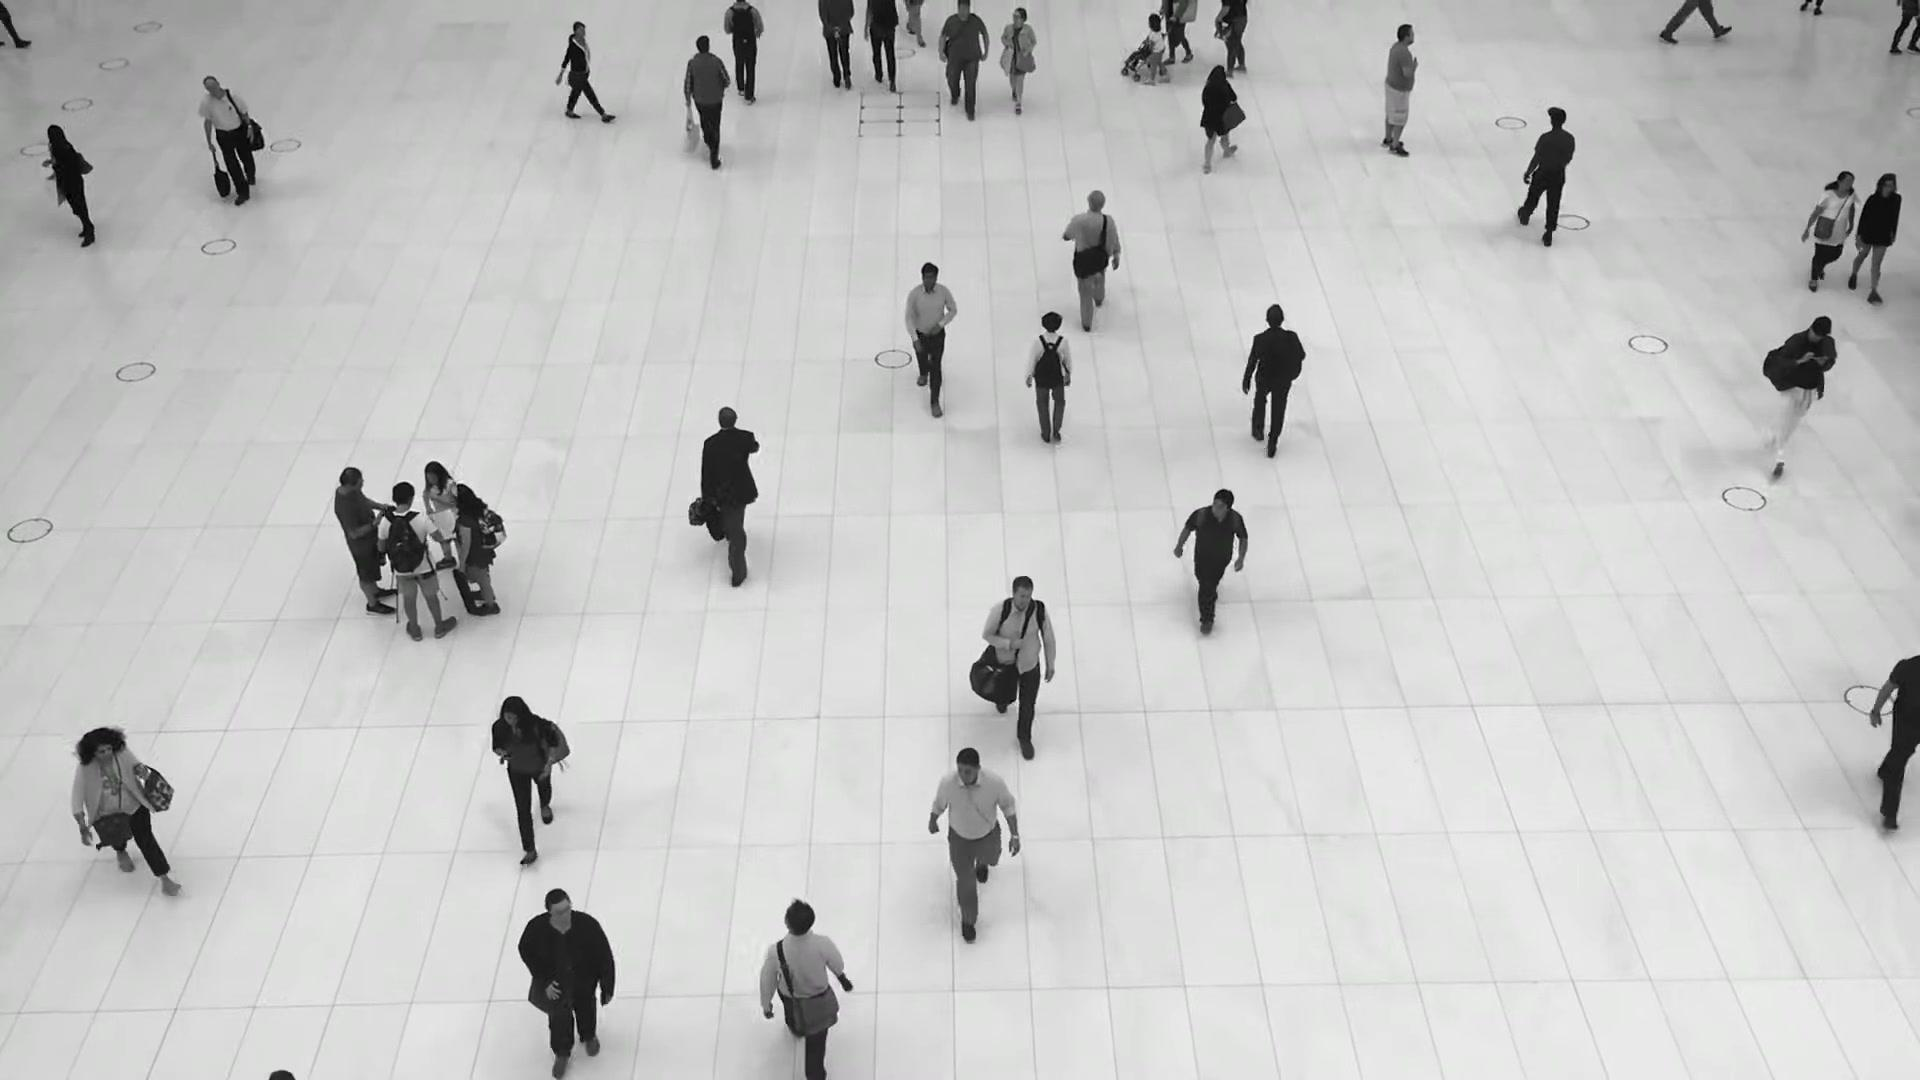person: (516, 888, 618, 1080), (927, 746, 1020, 942), (759, 899, 851, 1079), (69, 724, 164, 893), (981, 575, 1057, 759), (490, 694, 568, 866), (377, 481, 459, 641), (1761, 315, 1838, 479), (698, 406, 762, 587), (1172, 488, 1249, 636), (1242, 303, 1308, 459), (333, 466, 400, 615), (1060, 189, 1123, 333), (902, 260, 960, 418), (1516, 106, 1576, 249), (198, 75, 256, 206), (1847, 172, 1902, 307), (449, 483, 501, 617), (1023, 310, 1074, 445), (1800, 170, 1856, 292), (936, 0, 991, 121), (42, 124, 96, 248), (554, 20, 616, 125), (683, 34, 731, 171), (1381, 23, 1420, 157), (723, 0, 767, 103), (421, 460, 459, 580), (1199, 63, 1239, 175), (999, 7, 1038, 115), (863, 0, 900, 93), (817, 0, 855, 90), (1143, 12, 1170, 85)
